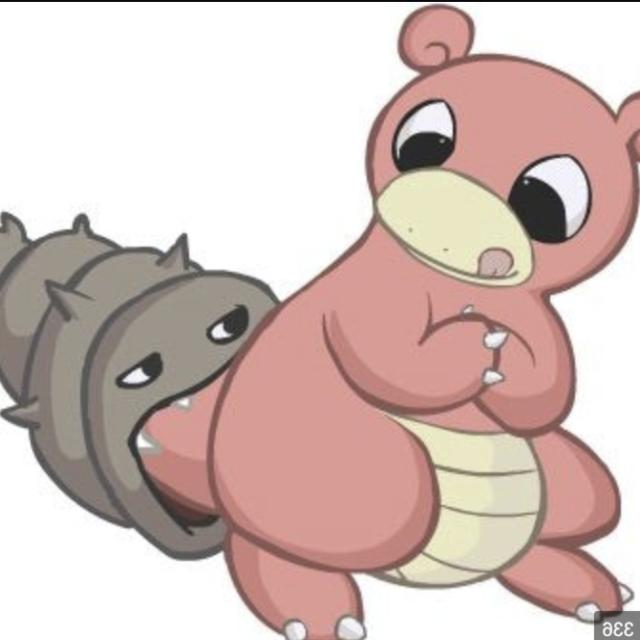Slowbro: (84, 10, 640, 608)
